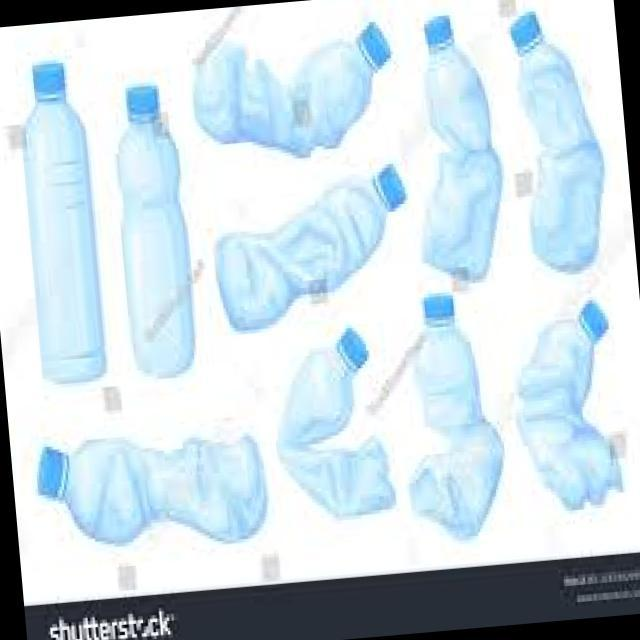defected: (17, 392, 283, 583), (205, 158, 417, 337), (182, 4, 402, 172), (501, 0, 615, 283), (395, 286, 514, 540), (408, 15, 515, 292), (268, 324, 402, 528), (508, 294, 629, 516)
good: (10, 43, 120, 394), (102, 72, 206, 396)
